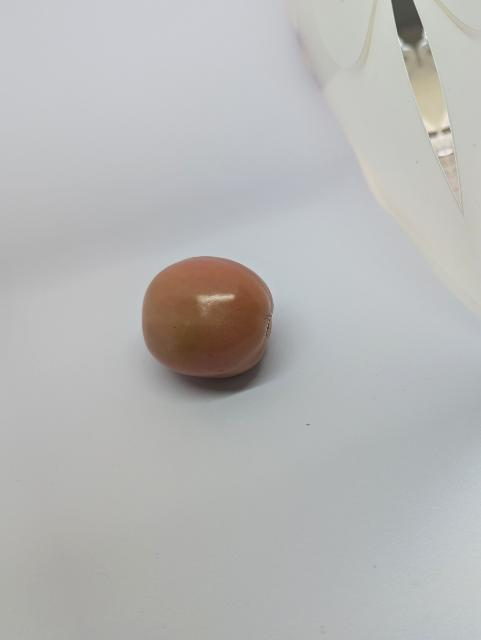turning: (139, 250, 282, 383)
